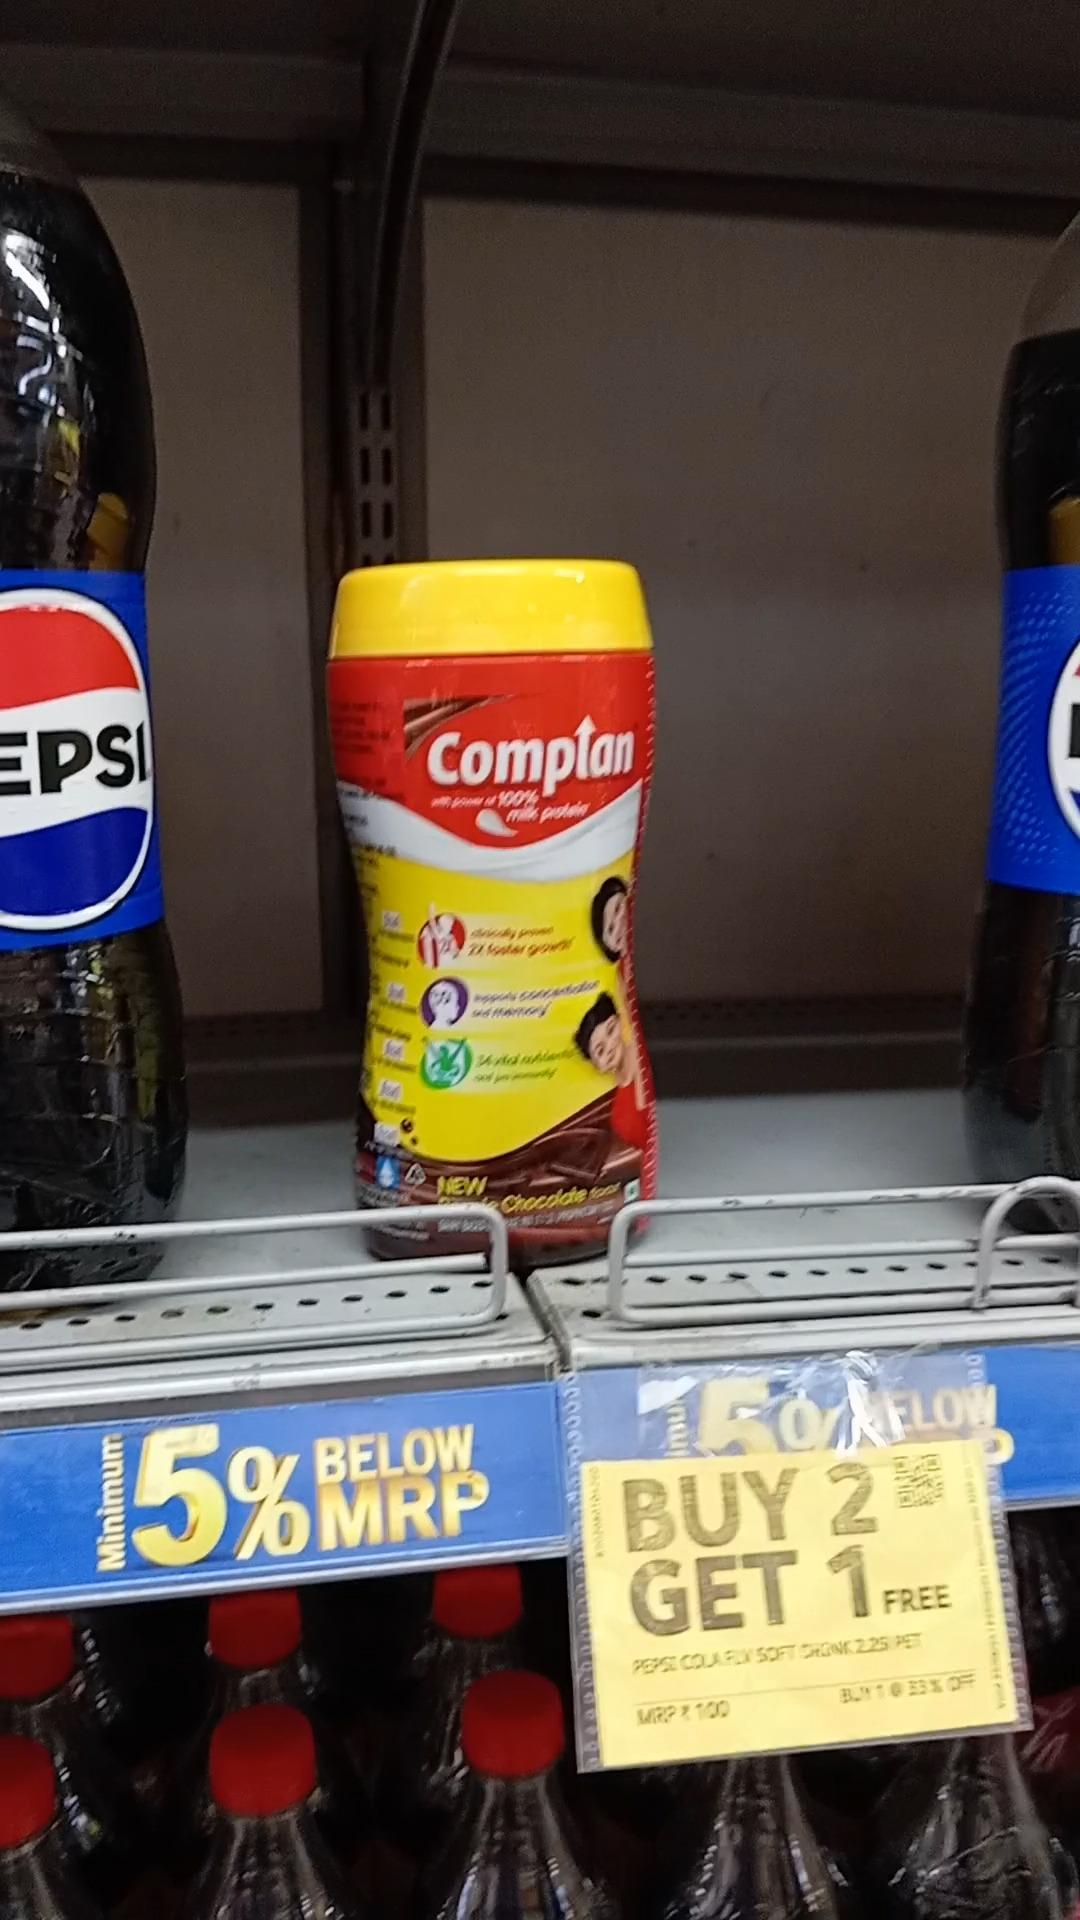COMPLAN_CHOCOLATE_500_GMS_JAR: (339, 555, 663, 1263)
